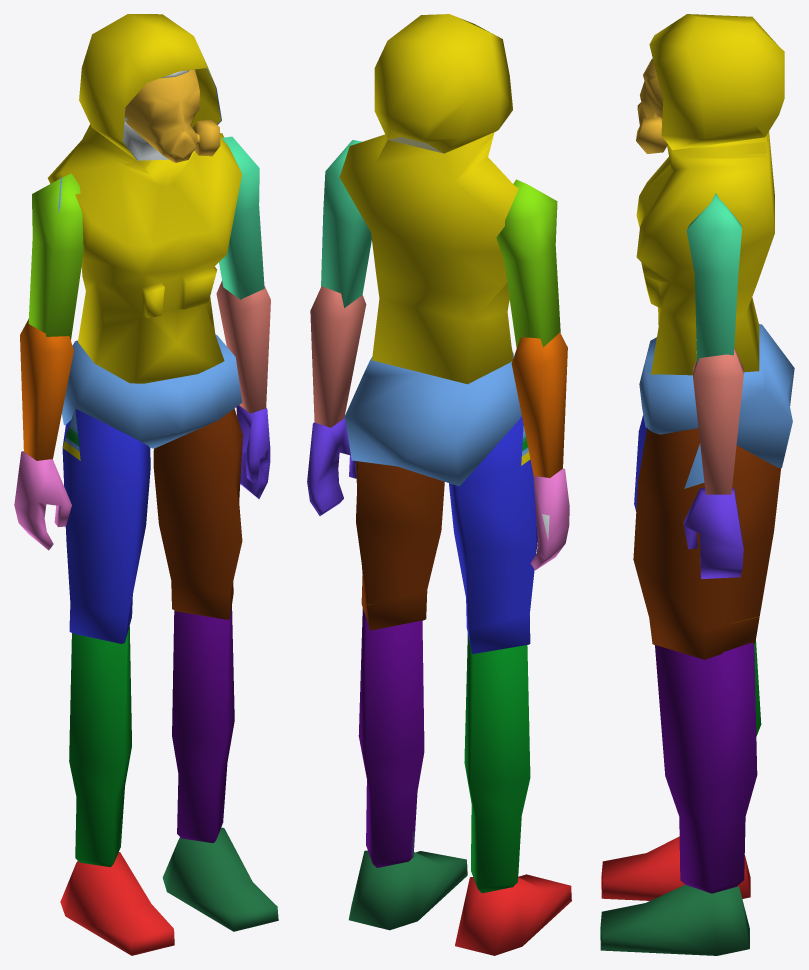
The model's file is CharLilouMasked.fbx.
The picture shows the model from 3 angles, left to right: view 1: azimuth 30°, elevation 25°; view 2: azimuth 150°, elevation 25°; view 3: azimuth 270°, elevation 25°; orthographic projection. The views are drawn at different scales.
Visible parts, largest first — view 1: Lilou, LilouMask; view 2: Lilou; view 3: Lilou, LilouMask.
Boxes of the visible parts, x1,y1,x2,y2 form: Lilou: (14,14,278,955); LilouMask: (125,69,220,162); Lilou: (307,14,571,955); Lilou: (600,14,794,955); LilouMask: (636,58,667,153).
Size of the model in its own units: 48.34 by 173 by 34.01.
Materials: 2 (1 with a texture image).
